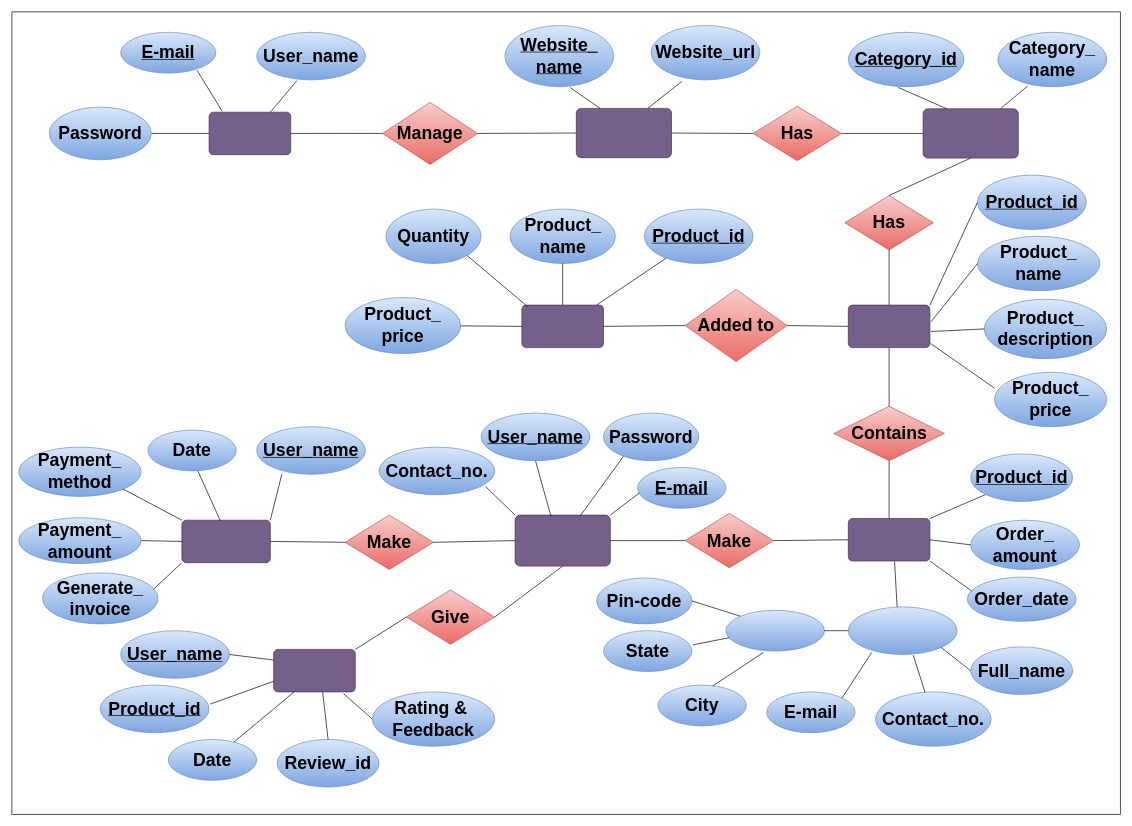
This 1132x826 diagram has some shape labels left out. The shapes that lost their labels are listed below. From the top down, each one's centre as x and y in pixels, then its label:
At point 249,133: "Admin".
At point 624,133: "Shopping Website".
At point 970,133: "Product Category".
At point 562,326: "Cart".
At point 889,326: "Product".
At point 225,541: "Payment".
At point 562,540: "User/ Customer".
At point 889,539: "Order".
At point 775,630: "Address".
At point 902,630: "Order_ details".
At point 314,670: "Review".
